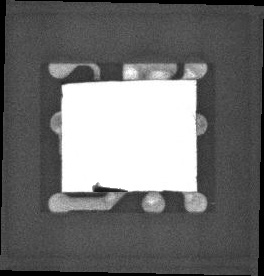DIE_BROKEN: (91, 180, 127, 193)
